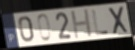0: (36, 13, 54, 43), (17, 16, 36, 44)
2: (55, 11, 73, 41)
H: (70, 8, 95, 41)
L: (91, 9, 110, 37)
X: (107, 5, 130, 36)
